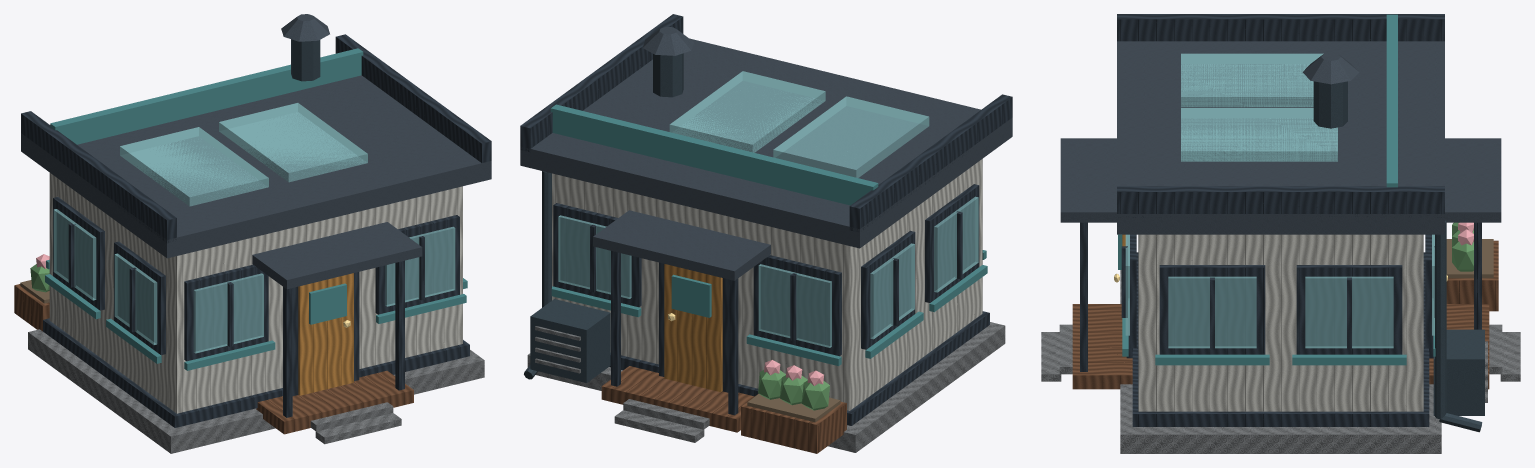
File: house_modern_lv1.glb
3 views of the same model, side by side, from view 1: azimuth 30°, elevation 25°; view 2: azimuth 150°, elevation 25°; view 3: azimuth 270°, elevation 25° (orthographic). The views are drawn at different scales.
Parts seen in each view (by area): view 1: flat_roof, walls, foundation, roof_terrace, solar_panel.001, solar_panel, front_porch_canopy, front_window_frame, floor_trim, front_door, parapet, front_window_frame.001 (+23 smaller); view 2: flat_roof, walls, roof_terrace, solar_panel.001, solar_panel, back_porch_canopy, back_window_frame, foundation, back_door, parapet, back_window_frame.001, back_ac_unit (+29 smaller); view 3: flat_roof, walls, foundation, parapet.001, right_window_frame, right_window_frame.001, parapet, solar_panel.001, solar_panel, floor_trim, right_window_glass, right_window_glass.001 (+24 smaller).
Part boxes in pixels (left/top/right/bottom): flat_roof: left=21, top=75, right=491, bottom=258; walls: left=49, top=173, right=462, bottom=413; foundation: left=28, top=329, right=484, bottom=453; roof_terrace: left=50, top=48, right=363, bottom=144; solar_panel.001: left=219, top=103, right=367, bottom=182; solar_panel: left=120, top=127, right=268, bottom=206; front_porch_canopy: left=252, top=222, right=422, bottom=289; front_window_frame: left=184, top=264, right=268, bottom=361; floor_trim: left=43, top=318, right=469, bottom=427; front_door: left=298, top=273, right=353, bottom=395; parapet: left=21, top=111, right=176, bottom=243; front_window_frame.001: left=375, top=215, right=459, bottom=314; flat_roof: left=520, top=38, right=1012, bottom=248; walls: left=552, top=159, right=982, bottom=410; roof_terrace: left=550, top=104, right=878, bottom=205; solar_panel.001: left=669, top=71, right=825, bottom=152; solar_panel: left=773, top=96, right=929, bottom=177; back_porch_canopy: left=593, top=210, right=770, bottom=280; back_window_frame: left=753, top=255, right=841, bottom=356; foundation: left=527, top=322, right=1005, bottom=452; back_door: left=664, top=264, right=722, bottom=392; parapet: left=849, top=94, right=1012, bottom=231; back_window_frame.001: left=553, top=203, right=641, bottom=307; back_ac_unit: left=530, top=299, right=610, bottom=382; flat_roof: left=1117, top=41, right=1444, bottom=234; walls: left=1138, top=234, right=1423, bottom=411; foundation: left=1120, top=270, right=1441, bottom=453; parapet.001: left=1117, top=186, right=1444, bottom=217; right_window_frame: left=1159, top=265, right=1265, bottom=354; right_window_frame.001: left=1296, top=265, right=1402, bottom=354; parapet: left=1117, top=14, right=1444, bottom=41; solar_panel.001: left=1181, top=108, right=1337, bottom=161; solar_panel: left=1181, top=53, right=1323, bottom=107; floor_trim: left=1132, top=252, right=1429, bottom=426; right_window_glass: left=1168, top=276, right=1256, bottom=348; right_window_glass.001: left=1305, top=276, right=1393, bottom=348.
Size of the model in its own units: 2.95 by 2.71 by 3.36.
Materials: 13 (7 with a texture image).
